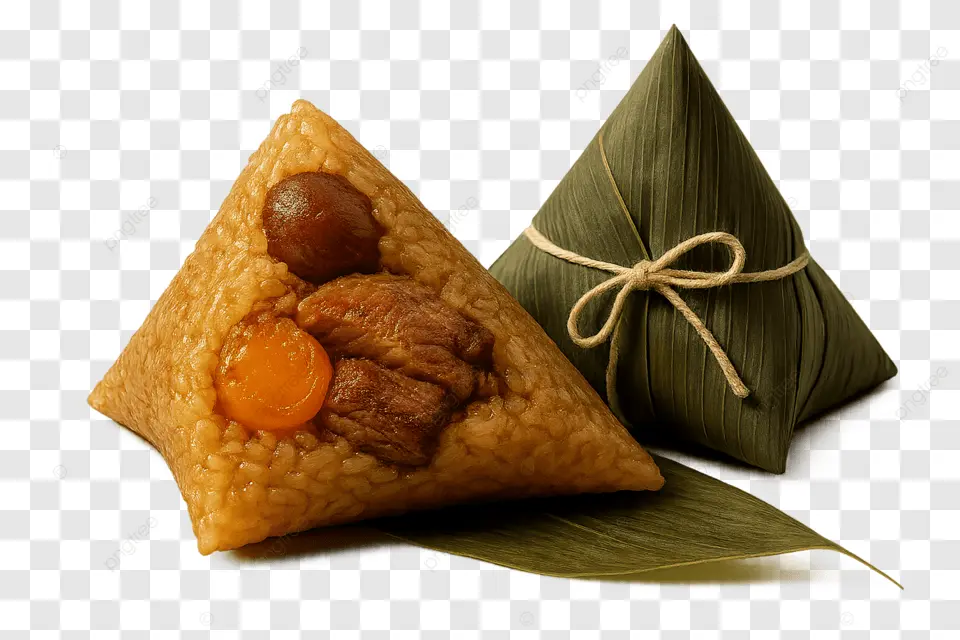zongzi: (89, 101, 663, 552), (490, 28, 895, 472)
